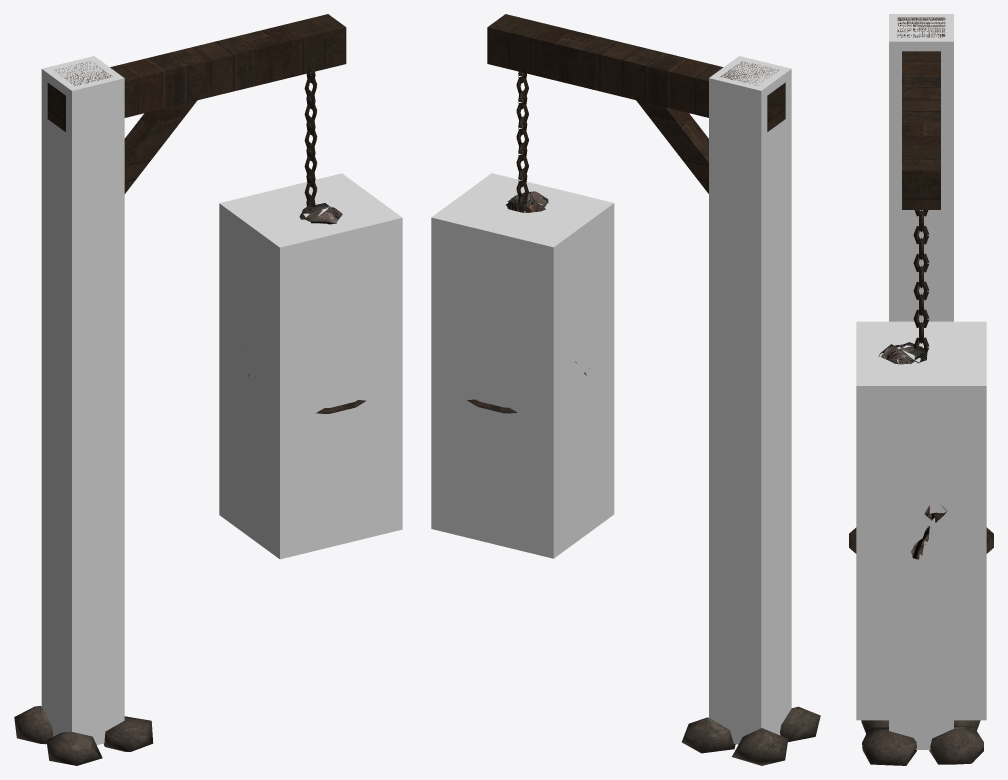
Rendered from gibbet_corpse.glb.
3 views of the same model, side by side, from view 1: azimuth 30°, elevation 25°; view 2: azimuth 150°, elevation 25°; view 3: azimuth 270°, elevation 25° (orthographic). The views are drawn at different scales.
Parts seen in each view (by area): view 1: col_cage, col_post, gallows; view 2: col_cage, col_post, gallows; view 3: col_cage, col_post, gallows, corpse_body, cage.
Boxes of the visible parts, <box> form: col_cage: <box>219,173,402,559</box>; col_post: <box>41,56,124,744</box>; gallows: <box>14,14,346,765</box>; col_cage: <box>431,173,614,558</box>; col_post: <box>709,56,791,744</box>; gallows: <box>487,14,820,765</box>; col_cage: <box>856,321,986,720</box>; col_post: <box>889,14,953,749</box>; gallows: <box>861,17,983,765</box>; corpse_body: <box>878,342,947,559</box>; cage: <box>849,346,993,553</box>.
Bounding box in the file's own units: 1.95 × 3.68 × 0.6676.
Materials: 5 (5 with a texture image).
